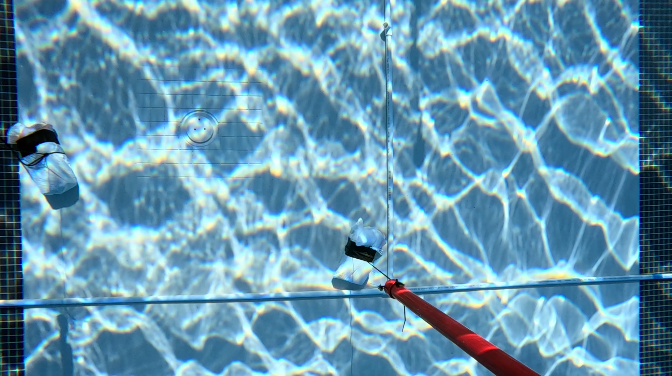sandbag: (9, 123, 76, 193), (333, 224, 384, 283)
